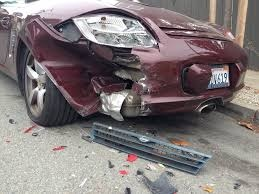Smashed: (37, 42, 154, 115)
